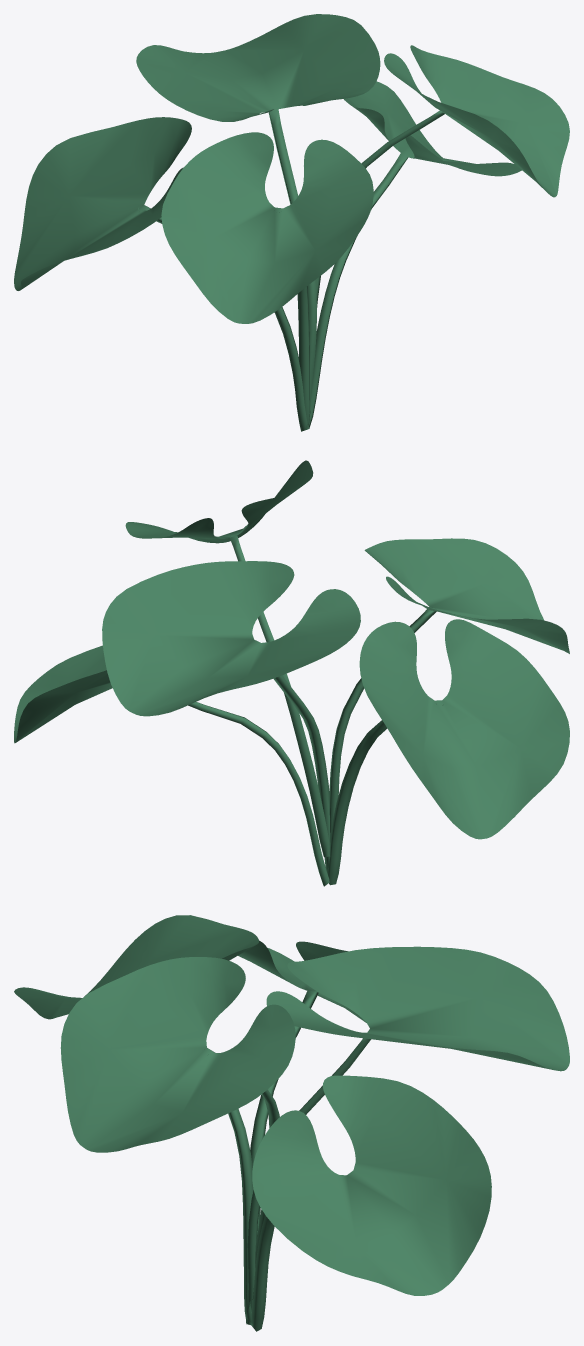
Rendered from Leaf-Bundle-S01A.fbx.
3 renders of one model, top to bottom at view 1: azimuth 30°, elevation 25°; view 2: azimuth 150°, elevation 25°; view 3: azimuth 270°, elevation 25°, orthographic. The views are drawn at different scales.
Parts seen in each view (by area): view 1: Leaf-Bundle-S01A; view 2: Leaf-Bundle-S01A; view 3: Leaf-Bundle-S01A.
Part boxes in pixels (box(x1,y1,x2,y2)): Leaf-Bundle-S01A: box(14, 14, 569, 431); Leaf-Bundle-S01A: box(14, 460, 569, 886); Leaf-Bundle-S01A: box(14, 915, 569, 1331).
Size of the model in its own units: 126 by 85.3 by 106.
